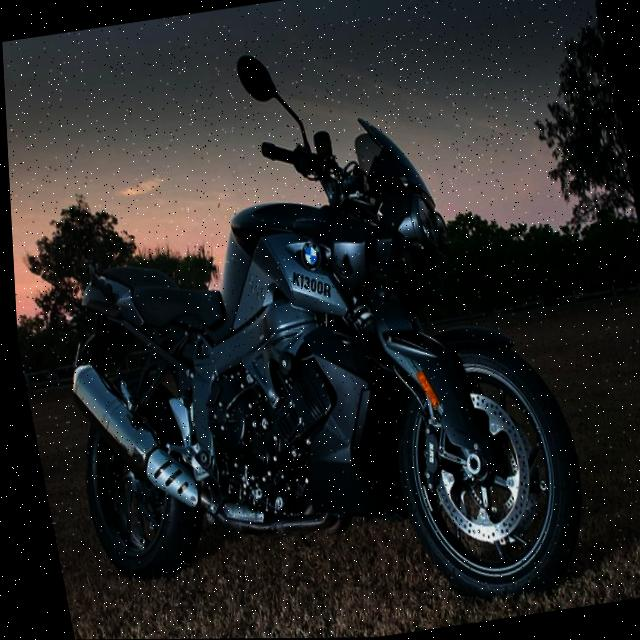motorcycle: (1, 15, 607, 640)
